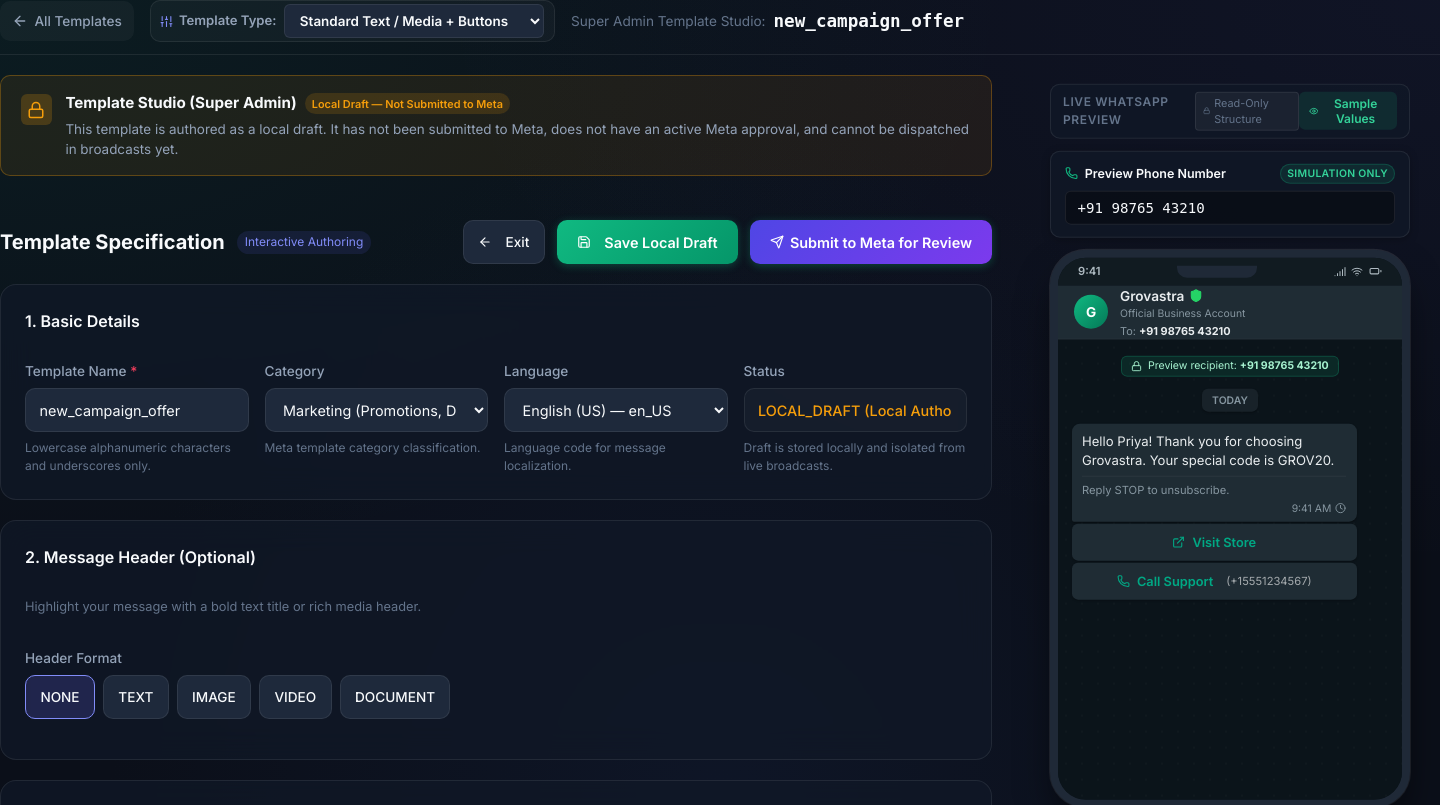
Test: Template Studio Meta Submission & Approval Flow › 2. UI Submission Review Modal & User Confirmation › submits template to Meta API, shows PENDING status and returned Meta ID on success
Click the button with test id "submit-meta-btn": (871, 242) 750,220 -> 992,264
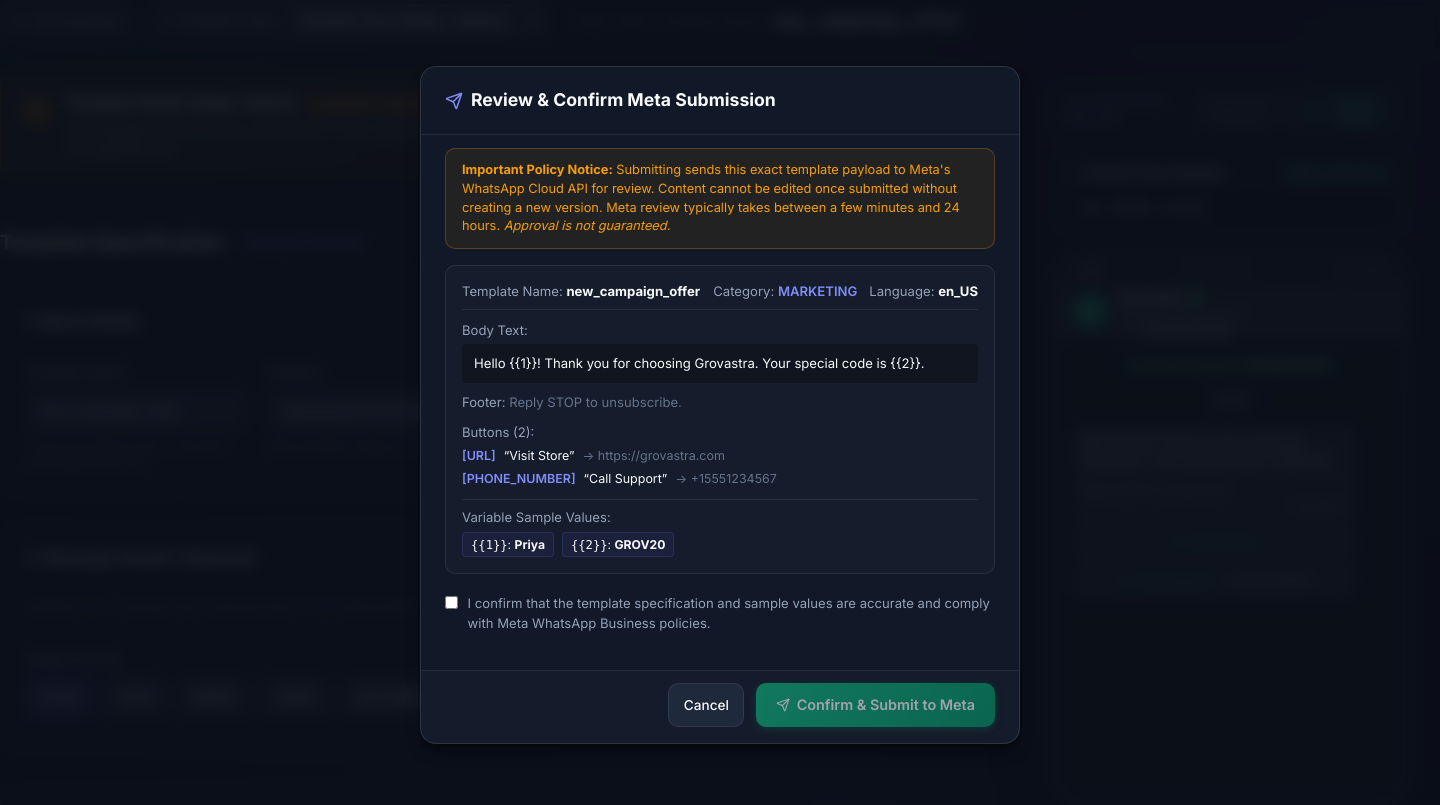
Expected: the checkbox with test id "confirm-meta-policy-check" is shown
Click the checkbox with test id "confirm-meta-policy-check": (452, 603) 445,596 -> 458,609
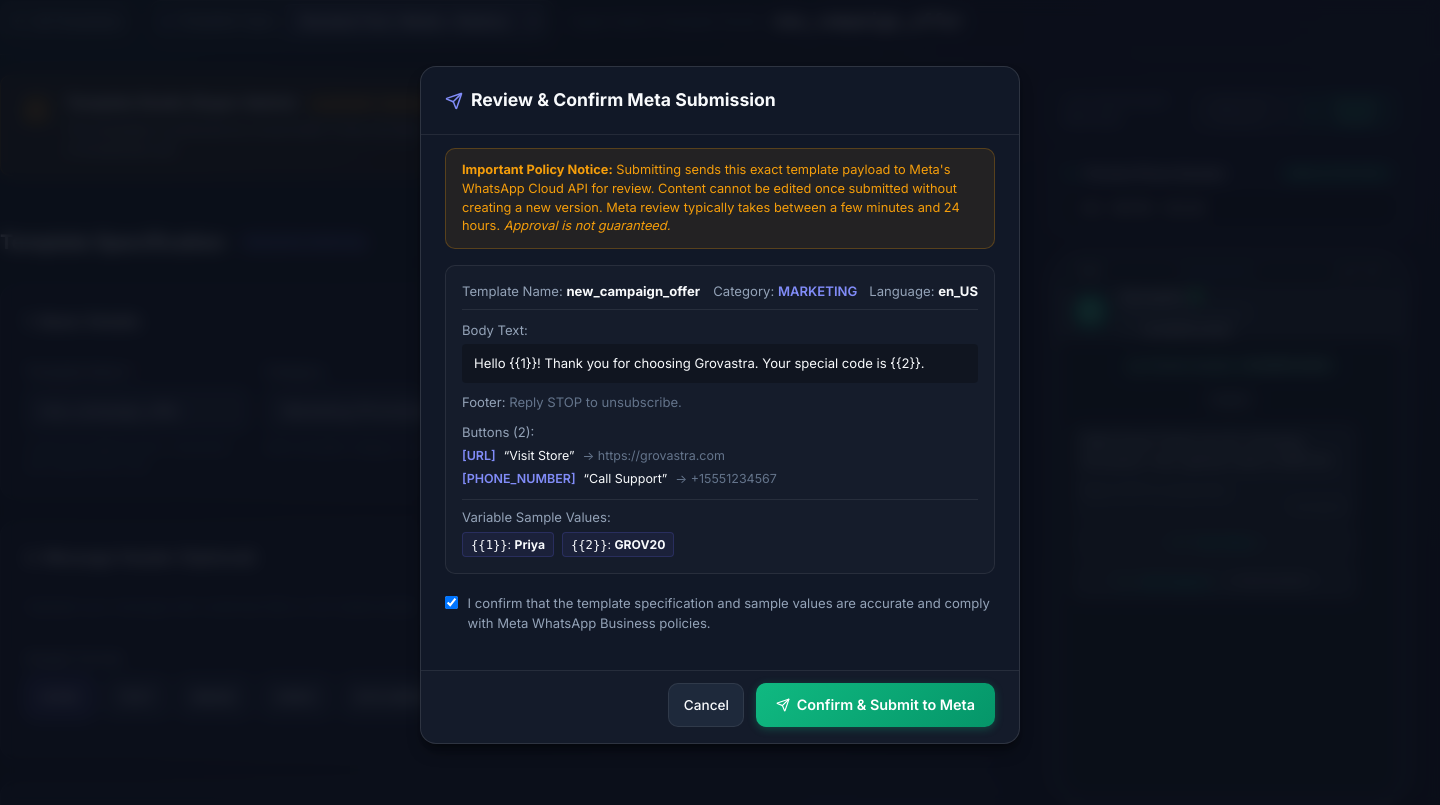
Expected: the button with test id "confirm-submit-meta-btn" is enabled
Click the button with test id "confirm-submit-meta-btn": (876, 704) 756,682 -> 995,726
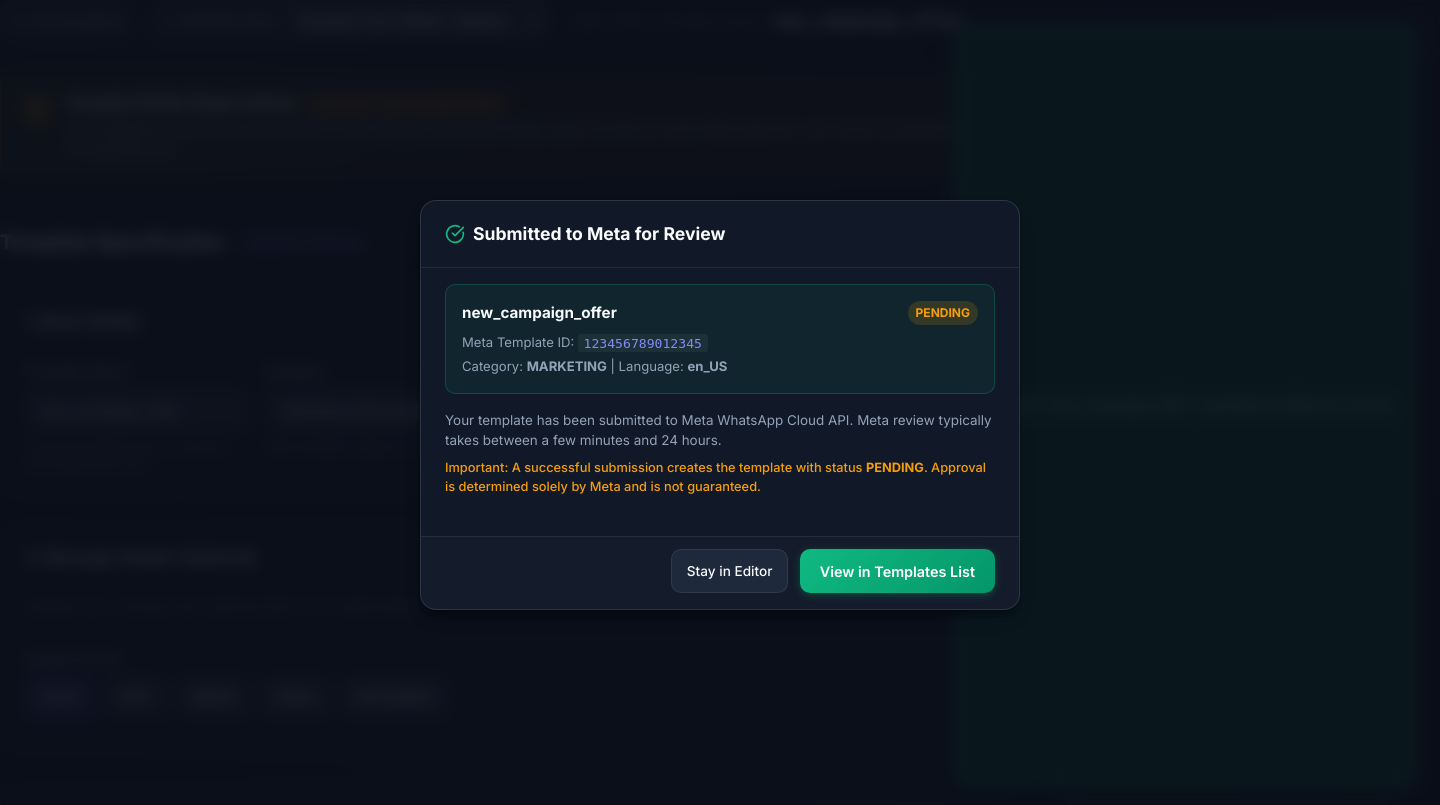
Expected: the heading "Submitted to Meta for Review" is shown, 445,221 -> 725,247
Expected: the text with test id "meta-template-id" reads "123456789012345", 584,335 -> 702,350
Expected: the text with test id "meta-returned-status" reads "PENDING", 916,305 -> 970,320
